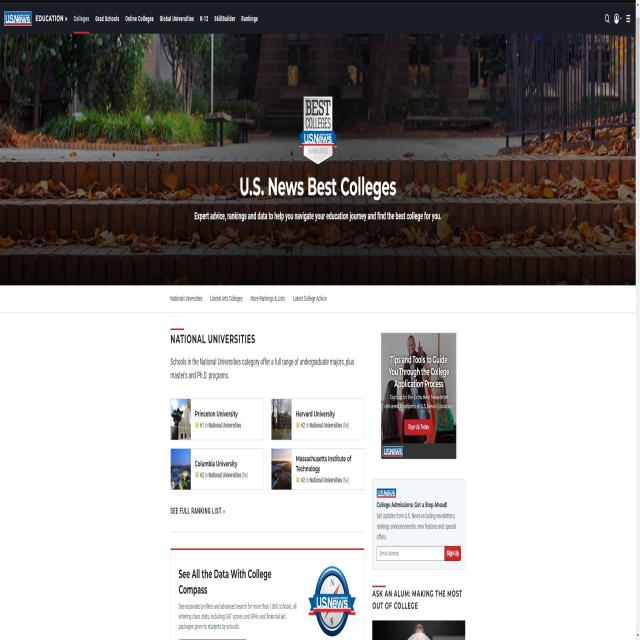menu-bar: (603, 11, 633, 27)
side-panel: (364, 317, 469, 639)
tab-bar: (34, 2, 258, 30), (168, 290, 330, 312)
